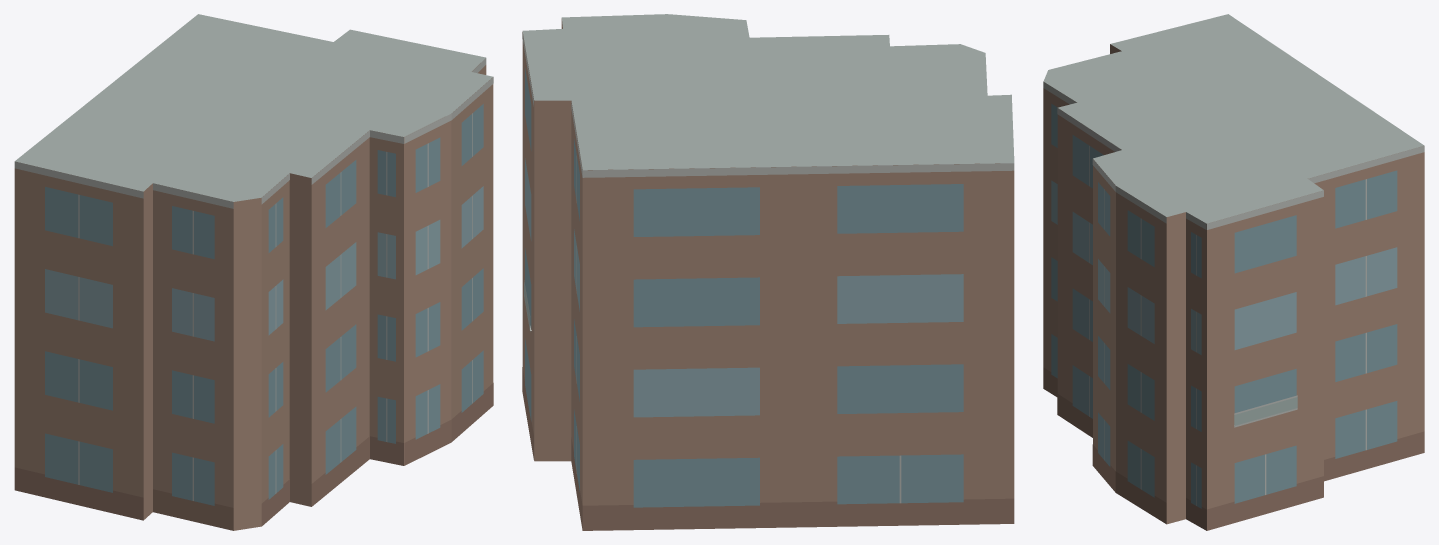
The model's file is survey-upis-32875453.glb.
3 views of the same model, side by side, from view 1: azimuth 30°, elevation 25°; view 2: azimuth 150°, elevation 25°; view 3: azimuth 270°, elevation 25° (orthographic). The views are drawn at different scales.
Visible parts, largest first — view 1: survey-upis-32875453.tmp; view 2: survey-upis-32875453.tmp; view 3: survey-upis-32875453.tmp.
Boxes of the visible parts, <box> form: survey-upis-32875453.tmp: <box>14,14,493,530</box>; survey-upis-32875453.tmp: <box>522,14,1014,530</box>; survey-upis-32875453.tmp: <box>1043,14,1424,530</box>.
Bounding box in the file's own units: 16.84 × 11.5 × 12.94.
